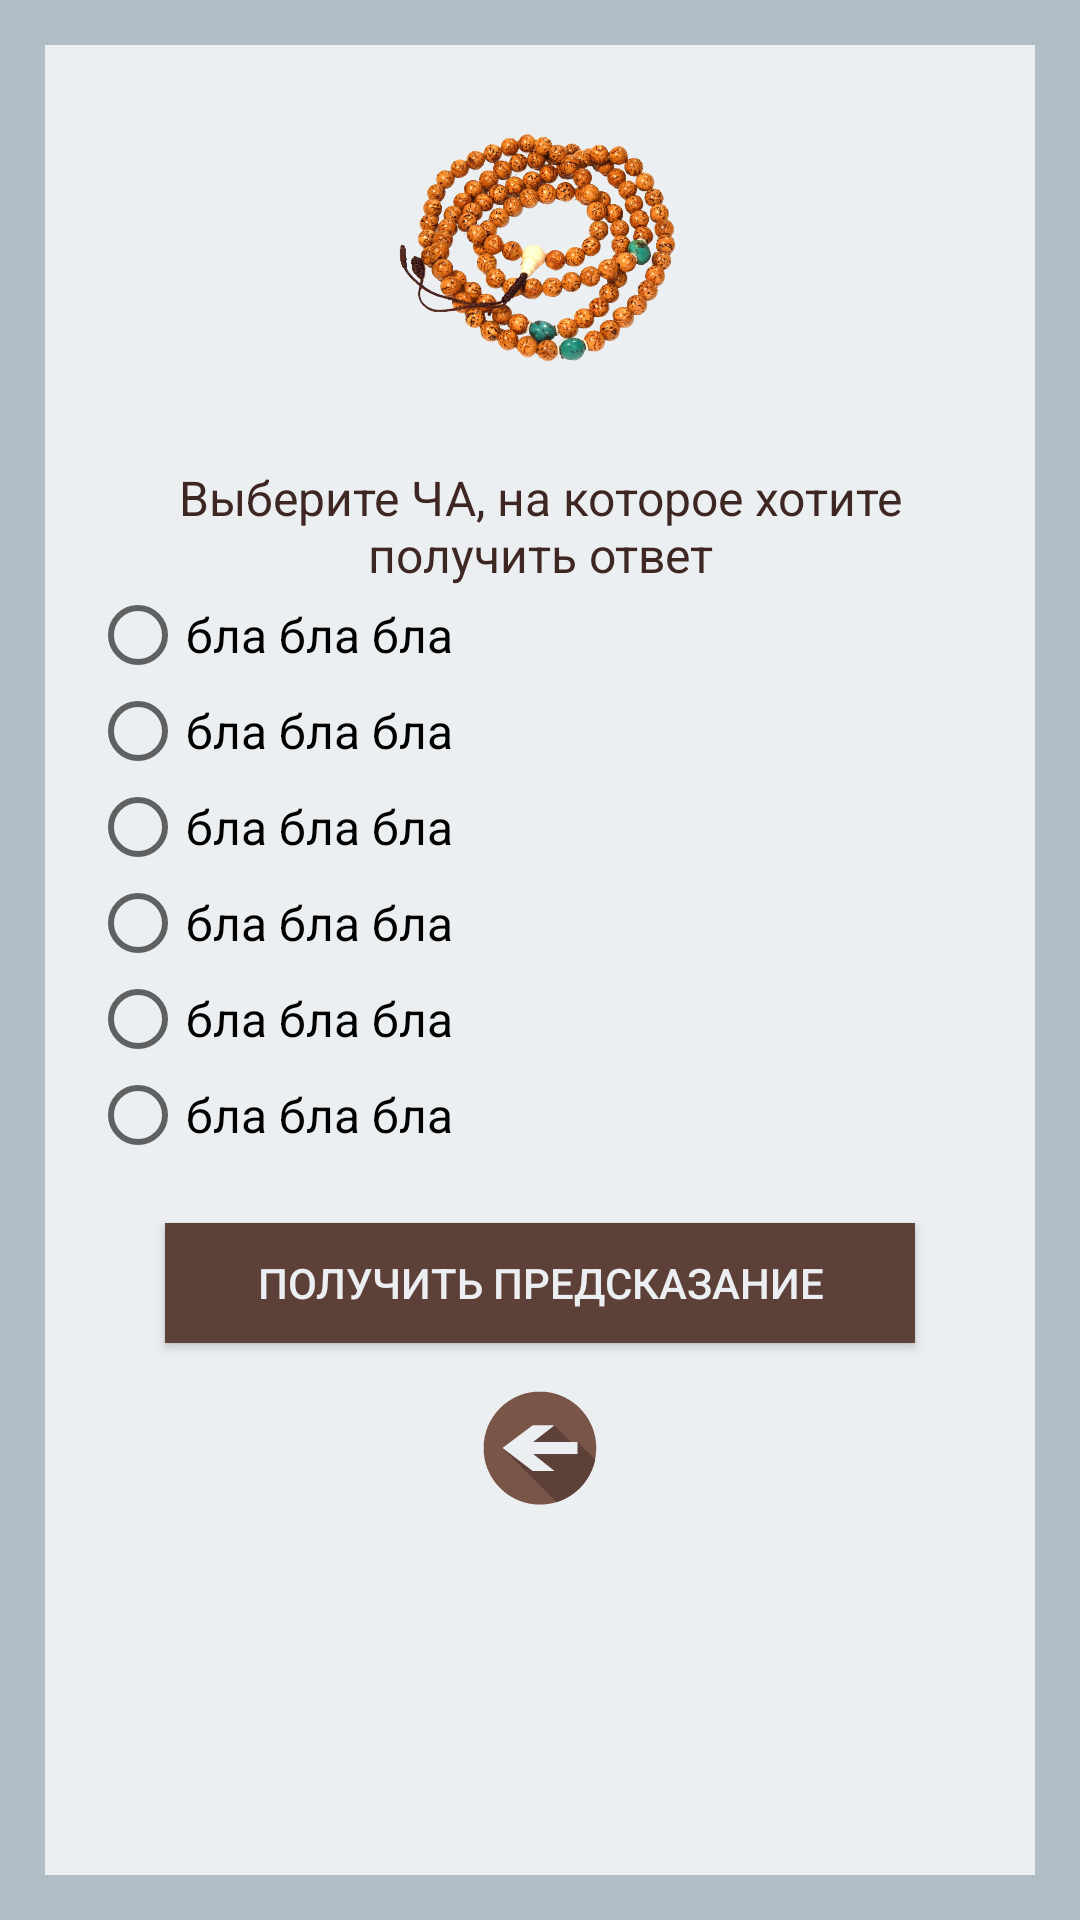

Icon bounding boxes for this 1080 × 1920 phone screenshot, format (x1, y1, x2, y2):
mo rosary: (399, 134, 676, 361)
